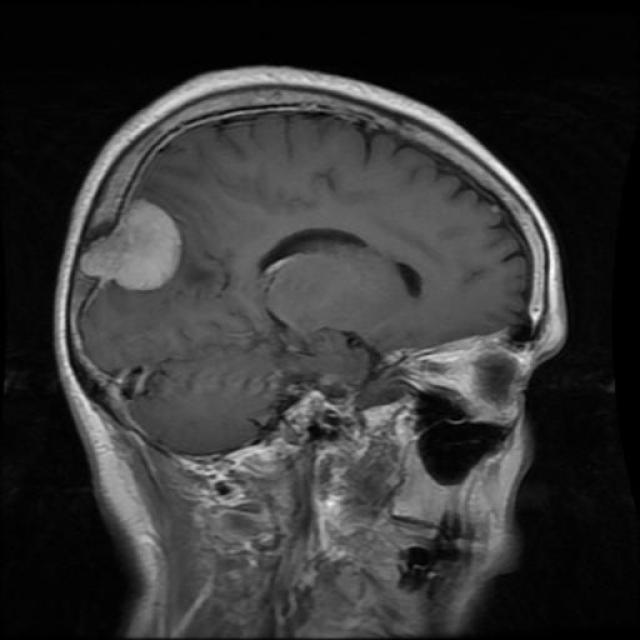meningioma: (79, 200, 182, 291)
